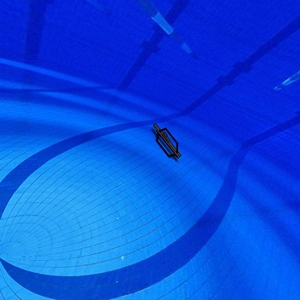submarine: (146, 120, 189, 165)
